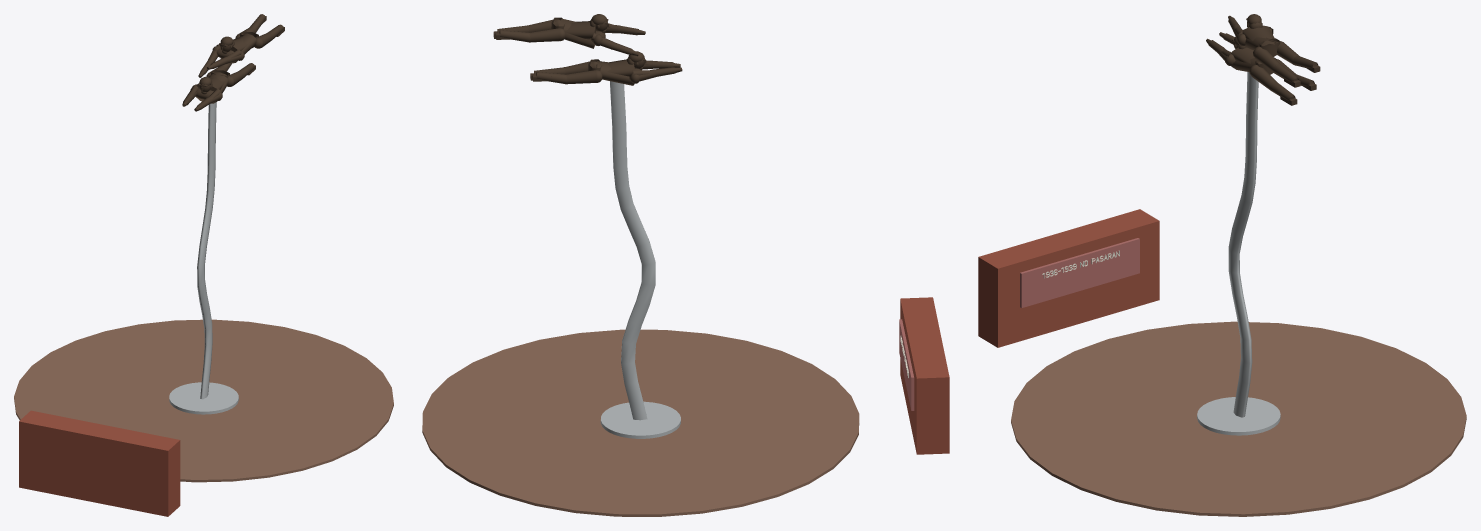
Rendered from spanjemonument.glb.
3 views of the same model, side by side, from view 1: azimuth 30°, elevation 25°; view 2: azimuth 150°, elevation 25°; view 3: azimuth 270°, elevation 25° (orthographic). The views are drawn at different scales.
Visible parts, largest first — view 1: spanjemonument; view 2: spanjemonument; view 3: spanjemonument.
Boxes of the visible parts, bbox=[...] form: spanjemonument: bbox=[14, 14, 393, 516]; spanjemonument: bbox=[422, 14, 949, 516]; spanjemonument: bbox=[978, 14, 1466, 516].
Bounding box in the file's own units: 7.12 × 6.14 × 6.43.
